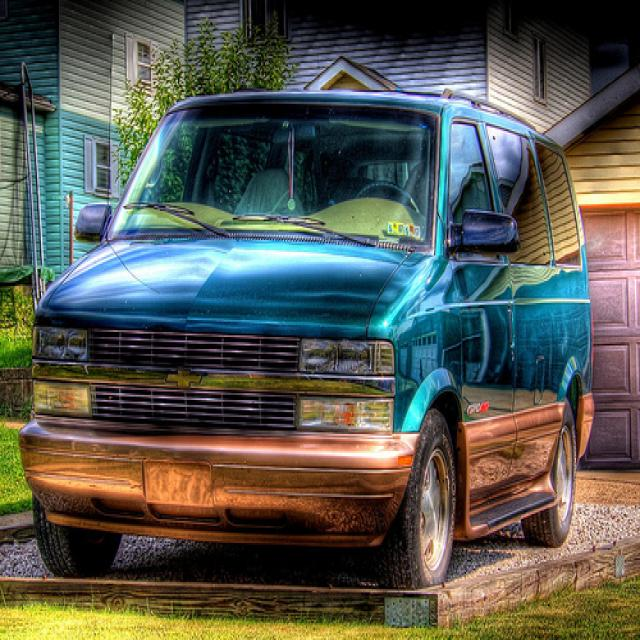Car: (25, 89, 598, 586)
